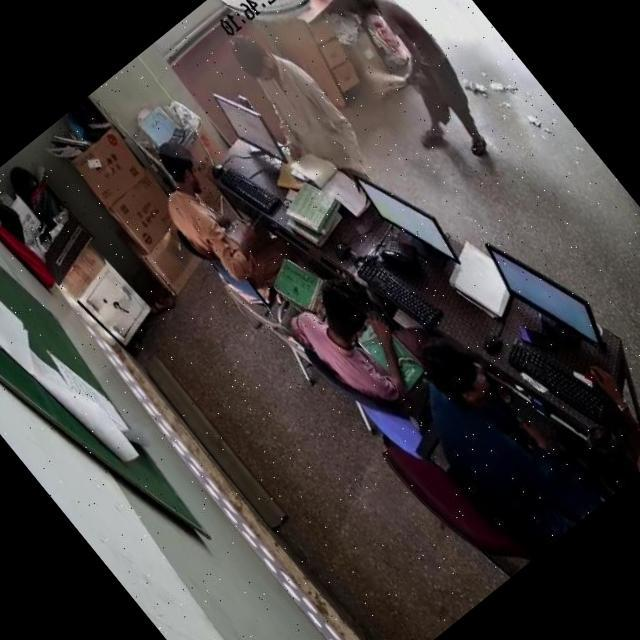person: (396, 328, 589, 538), (340, 0, 514, 175), (228, 10, 388, 192), (132, 132, 274, 294), (282, 269, 428, 421), (546, 359, 640, 495), (598, 295, 640, 444)
